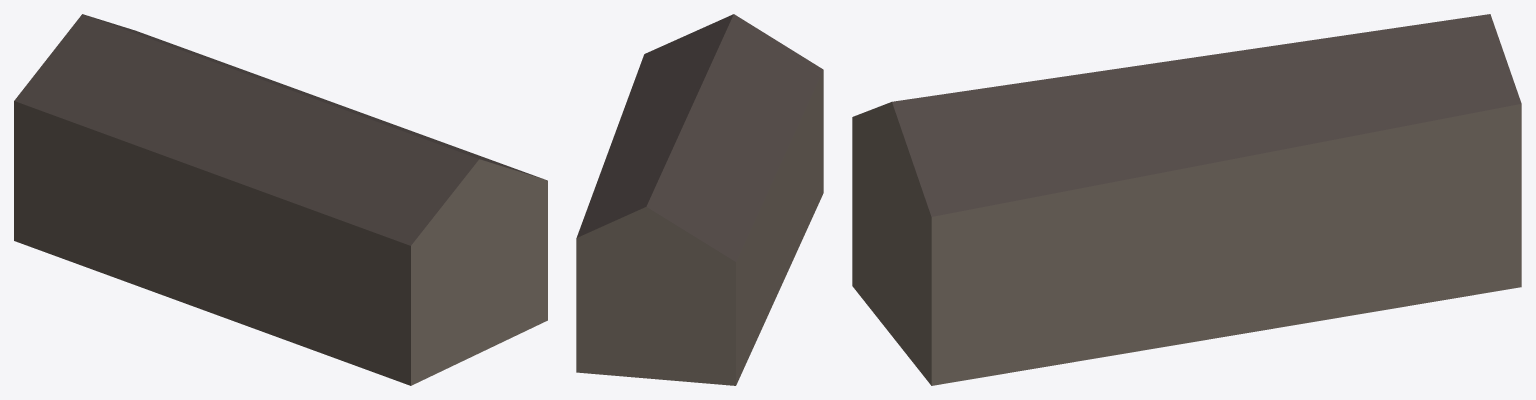
The picture shows the model from 3 angles, left to right: view 1: azimuth 30°, elevation 25°; view 2: azimuth 150°, elevation 25°; view 3: azimuth 270°, elevation 25°; orthographic projection. The views are drawn at different scales.
Visible parts, largest first — view 1: HP-w776801038; view 2: HP-w776801038; view 3: HP-w776801038.
Boxes of the visible parts, bbox=[...] form: HP-w776801038: bbox=[14, 14, 547, 385]; HP-w776801038: bbox=[576, 14, 823, 385]; HP-w776801038: bbox=[852, 14, 1521, 385].
Bounding box in the file's own units: 14.29 × 8.32 × 21.54.
